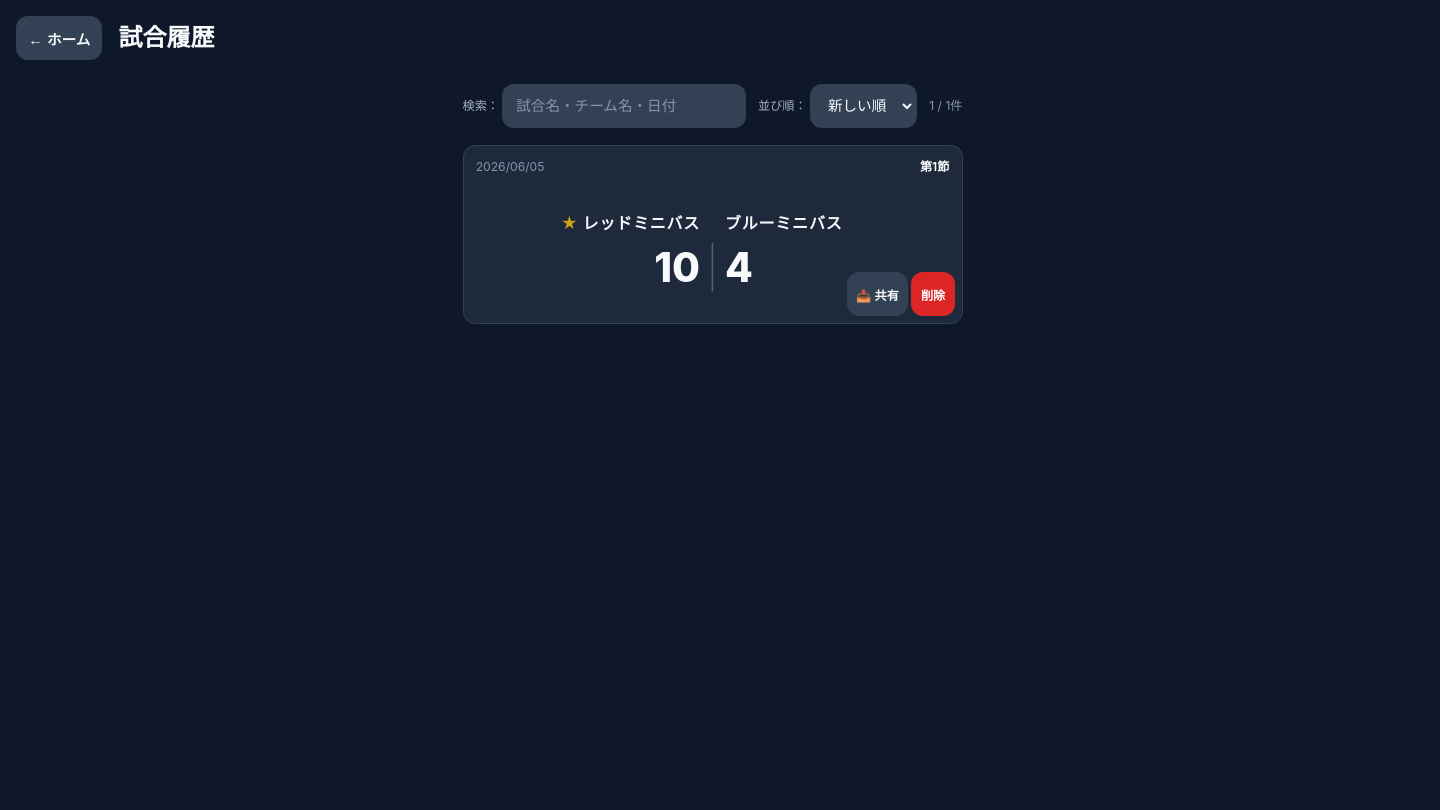
it: 履歴詳細のタブ › 3P設定OFFの記録では未使用と示す
Click the button "2026/06/05 第1節 ★ レッドミニバス 10 | ブルーミニバス 4" at (510, 166), box [476,158,949,311]
(page scrolled)
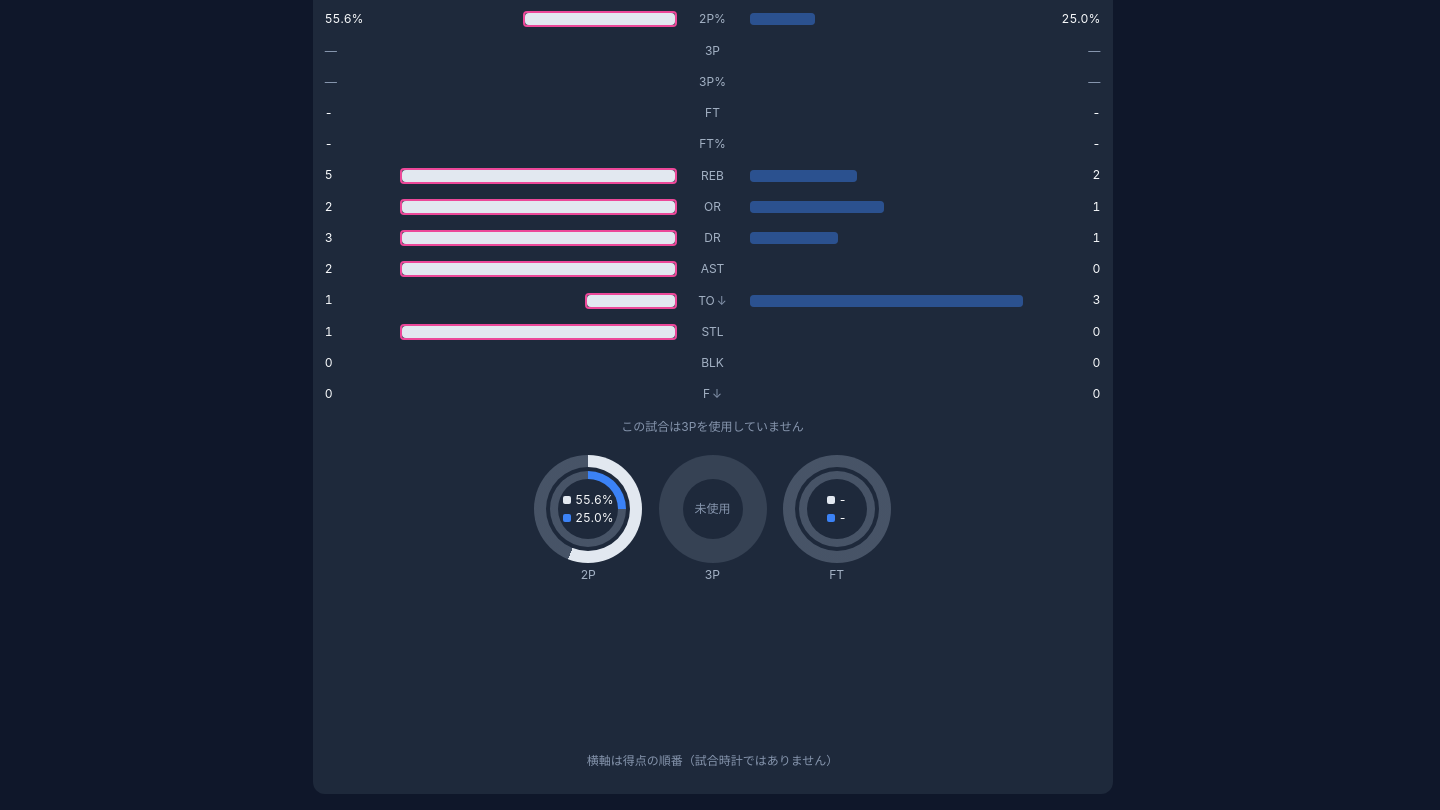
Now the text "この試合は3Pを使用していません" is shown, box [621,419,804,434]
